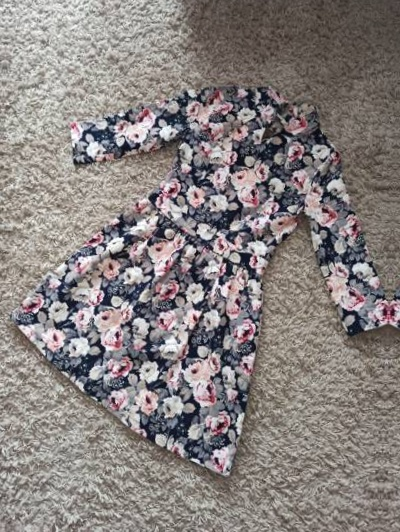Dress: (0, 47, 400, 491), (381, 64, 400, 508)
